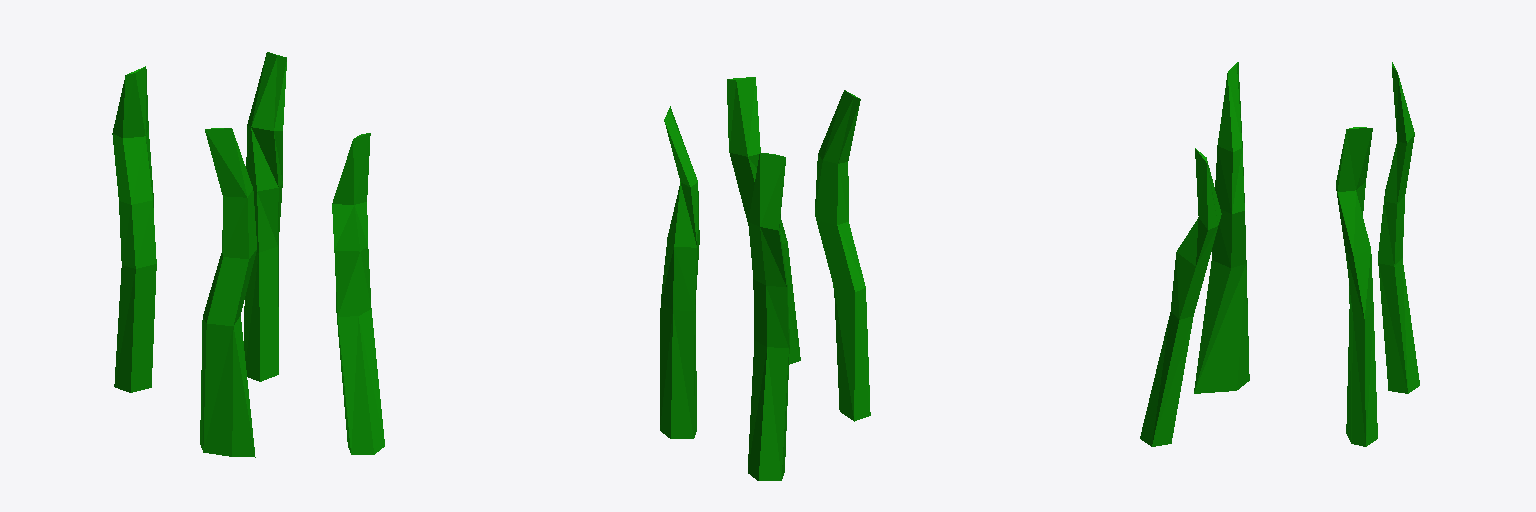
Rendered from grass.obj.
3 renders of one model, left to right at view 1: azimuth 30°, elevation 25°; view 2: azimuth 150°, elevation 25°; view 3: azimuth 270°, elevation 25°, orthographic.
Visible parts, largest first — view 1: grass_Circle; view 2: grass_Circle; view 3: grass_Circle.
Boxes of the visible parts, <box> form: grass_Circle: <box>112,52,384,457</box>; grass_Circle: <box>660,77,870,480</box>; grass_Circle: <box>1140,62,1419,446</box>.
Size of the model in its own units: 0.1312 by 0.256 by 0.2043.